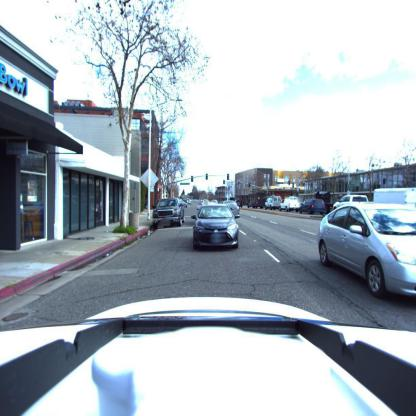car: (316, 200, 416, 303), (191, 205, 240, 249), (154, 198, 187, 228), (334, 194, 372, 211), (298, 199, 328, 215), (223, 200, 241, 218), (282, 197, 302, 212), (264, 196, 281, 210)
